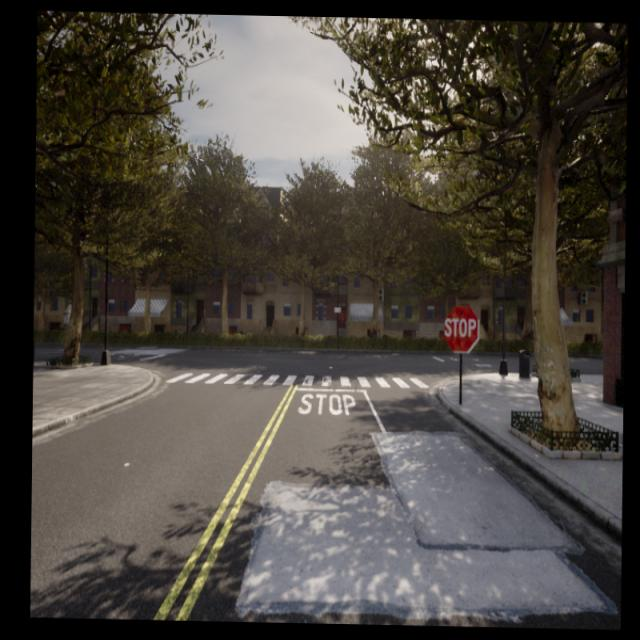stop sign: (441, 302, 481, 355), (443, 315, 477, 339)
